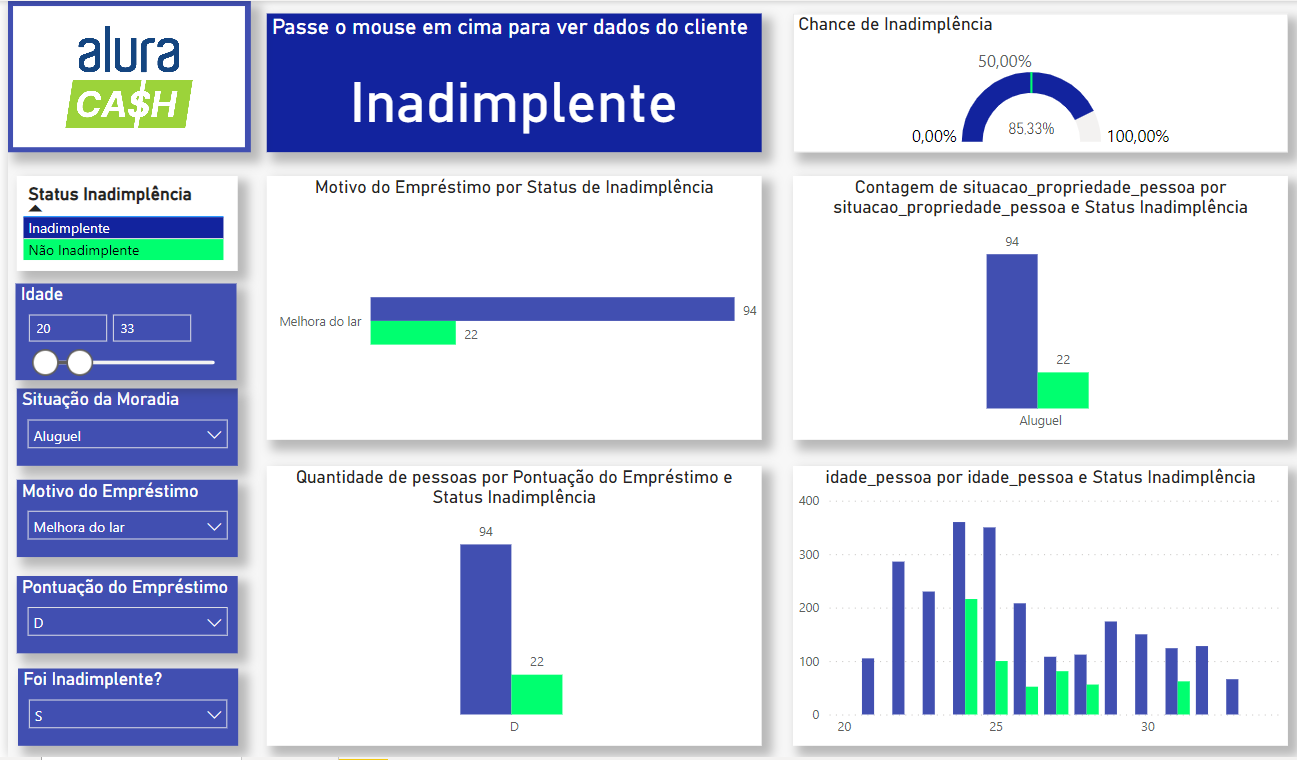

What the dashboard file says about the page in this screenshot:
{"tool":"powerbi","page":{"name":"Previsão Customizada","canvas":[1280,720],"ordinal":0},"visuals":[{"type":"card","title":"Passe o mouse em cima para ver dados do cliente","fields":{"Values":["0.Medida"]},"box":[246.3,11.9,471.3,132.1],"z":0},{"type":"gauge","title":"Chance de Inadimplência","fields":{"Y":["Sum(predict_custom?idade_pessoa=27&salario_pessoa=20000&situacao_propriedade_pessoa=.chance_1)"]},"box":[747.4,11.9,471.3,132.1],"z":1000},{"type":"image","box":[0,0,230.9,144],"z":2000},{"type":"clusteredBarChart","title":"Motivo do Empréstimo por Status de Inadimplência","fields":{"Y":["CountNonNull(dados_tratados_para_bi.motivo_emprestimo)"],"Category":["dados_tratados_para_bi.motivo_emprestimo"],"Series":["dados_tratados_para_bi.Inadimplente"]},"box":[246.3,166.6,471.3,251.1],"z":3000},{"type":"clusteredColumnChart","fields":{"Category":["dados_tratados_para_bi.situacao_propriedade_pessoa"],"Y":["CountNonNull(dados_tratados_para_bi.situacao_propriedade_pessoa)"],"Series":["dados_tratados_para_bi.Inadimplente"]},"box":[747.4,166.6,471.3,251.1],"z":4000},{"type":"clusteredColumnChart","fields":{"Category":["dados_tratados_para_bi.pontuacao_emprestimo"],"Y":["CountNonNull(dados_tratados_para_bi.pontuacao_emprestimo)"],"Series":["dados_tratados_para_bi.Inadimplente"]},"box":[246.3,442.7,471.3,266.6],"z":5000},{"type":"clusteredColumnChart","fields":{"Series":["dados_tratados_para_bi.Inadimplente"],"Y":["Sum(dados_tratados_para_bi.idade_pessoa)"],"Category":["dados_tratados_para_bi.idade_pessoa"]},"box":[747.4,442.7,471.3,266.6],"z":6000},{"type":"slicer","title":"Situação da Moradia","fields":{"Values":["dados_tratados_para_bi.situacao_propriedade_pessoa"]},"box":[8.3,368.9,210.6,73.8],"z":7000},{"type":"slicer","title":"Motivo do Empréstimo","fields":{"Values":["dados_tratados_para_bi.motivo_emprestimo"]},"box":[8.3,455.8,210.6,73.8],"z":8000},{"type":"slicer","title":"Pontuação do Empréstimo","fields":{"Values":["dados_tratados_para_bi.pontuacao_emprestimo"]},"box":[8.3,547.4,210.6,73.8],"z":9000},{"type":"tableEx","fields":{"Values":["dados_tratados_para_bi.Inadimplente"]},"box":[8.8,166.6,210,90],"z":10000,"group":"g1"},{"type":"actionButton","box":[8.3,166.7,220.2,44],"z":10001,"group":"g1"},{"type":"group","id":"g1","title":"Grupo 1","box":[8.3,166.6,220.2,90.4],"z":10002},{"type":"slicer","title":"Foi Inadimplente?","fields":{"Values":["dados_tratados_para_bi.foi_inadimplente_cb"]},"box":[9.5,635.5,209.5,73.8],"z":10003},{"type":"slicer","title":"Idade","fields":{"Values":["dados_tratados_para_bi.idade_pessoa"]},"box":[7.1,269,210.6,91.6],"z":10004}]}

Visuals, with their boxes on the page's 1280x720 design canvas (x1, y1, x2, y2). These are canvas units, not pixel positions in the 1297x760 screenshot, which may show the page scaled, cropped or inside an application window:
"Passe o mouse em cima para ver dados do cliente" card: bbox=[246, 12, 718, 144]
"Chance de Inadimplência" gauge: bbox=[747, 12, 1219, 144]
image: bbox=[0, 0, 231, 144]
"Motivo do Empréstimo por Status de Inadimplência" clusteredBarChart: bbox=[246, 167, 718, 418]
clusteredColumnChart - dados_tratados_para_bi.situacao_propriedade_pessoa x CountNonNull(dados_tratados_para_bi.situacao_propriedade_pessoa): bbox=[747, 167, 1219, 418]
clusteredColumnChart - dados_tratados_para_bi.pontuacao_emprestimo x CountNonNull(dados_tratados_para_bi.pontuacao_emprestimo): bbox=[246, 443, 718, 709]
clusteredColumnChart - dados_tratados_para_bi.Inadimplente x Sum(dados_tratados_para_bi.idade_pessoa): bbox=[747, 443, 1219, 709]
"Situação da Moradia" slicer: bbox=[8, 369, 219, 443]
"Motivo do Empréstimo" slicer: bbox=[8, 456, 219, 530]
"Pontuação do Empréstimo" slicer: bbox=[8, 547, 219, 621]
tableEx - dados_tratados_para_bi.Inadimplente: bbox=[9, 167, 219, 257]
actionButton: bbox=[8, 167, 228, 211]
"Grupo 1" group: bbox=[8, 167, 228, 257]
"Foi Inadimplente?" slicer: bbox=[10, 636, 219, 709]
"Idade" slicer: bbox=[7, 269, 218, 361]
